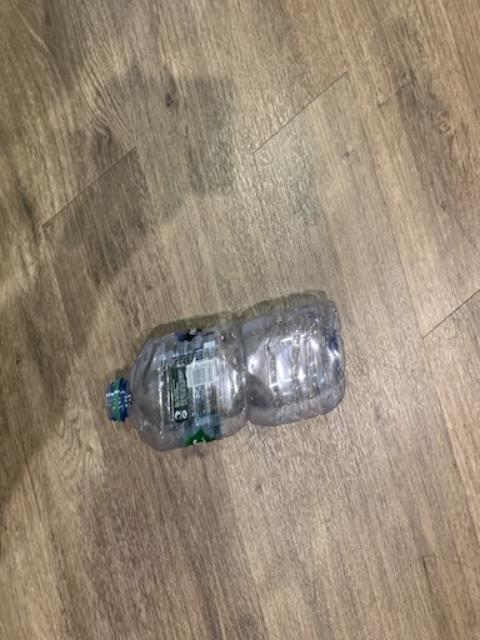plastic: (104, 291, 341, 449)
